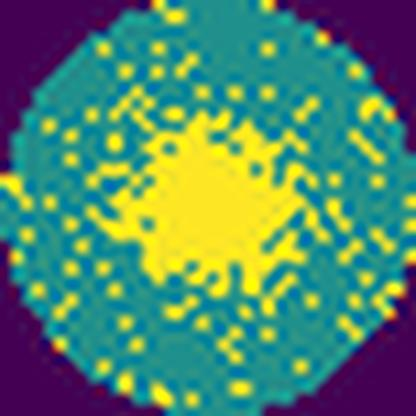Center: (115, 114, 309, 285)
